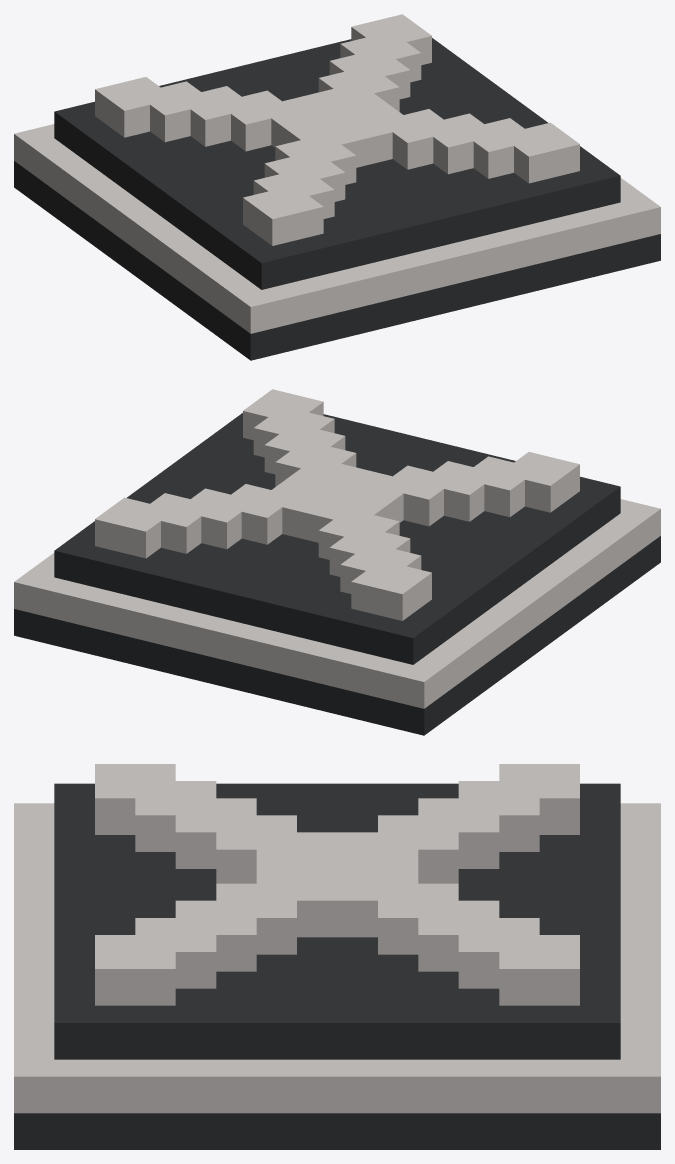
Rendered from x-v1-black-white.gltf.
3 views of the same model, one above another, from view 1: azimuth 30°, elevation 25°; view 2: azimuth 150°, elevation 25°; view 3: azimuth 270°, elevation 25° (orthographic). The views are drawn at different scales.
Visible parts, largest first — view 1: Untitled; view 2: Untitled; view 3: Untitled.
Part boxes in pixels (x1,y1,x2,y2): Untitled: [14, 14, 660, 360]; Untitled: [14, 389, 660, 735]; Untitled: [14, 764, 660, 1149].
Bounding box in the file's own units: 1.6 × 0.4 × 1.6.
Materials: 1 (1 with a texture image).
